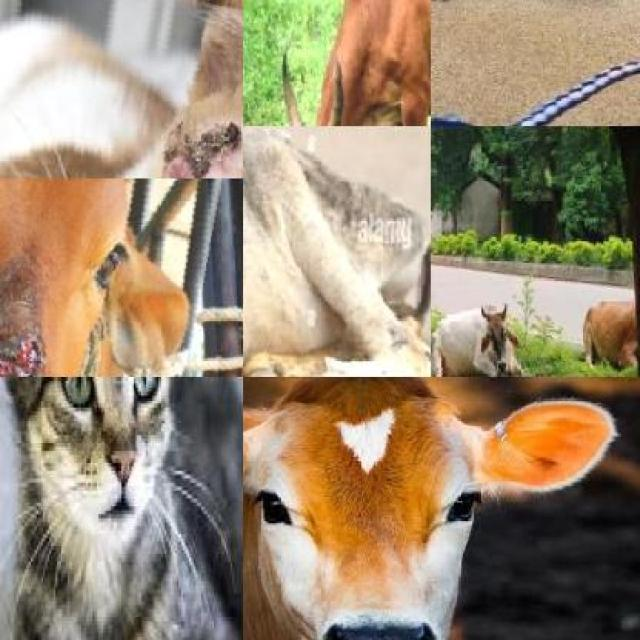cat: (0, 377, 189, 640), (0, 0, 243, 178)
cow: (243, 387, 549, 640), (243, 126, 431, 377), (0, 178, 231, 377), (271, 0, 431, 126), (430, 281, 528, 377)
injured: (112, 54, 218, 178)
